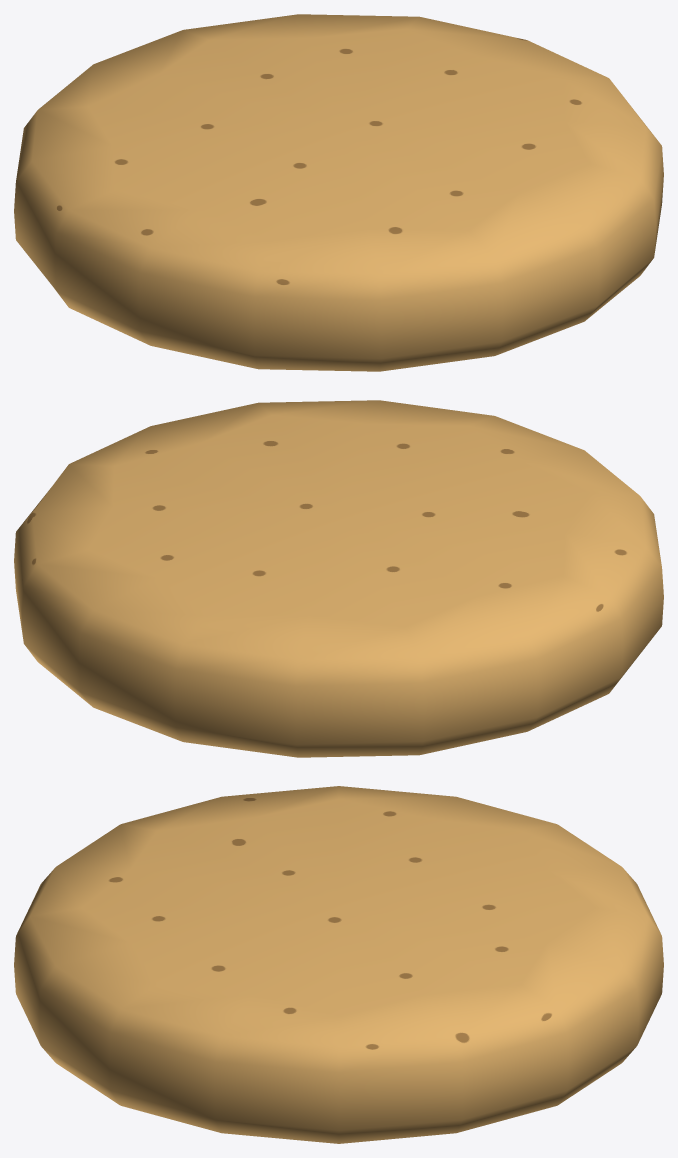
Rendered from hallulla.fbx.
3 views of the same model, one above another, from view 1: azimuth 30°, elevation 25°; view 2: azimuth 150°, elevation 25°; view 3: azimuth 270°, elevation 25° (orthographic).
Visible parts, largest first — view 1: HALLULLA; view 2: HALLULLA; view 3: HALLULLA.
Boxes of the visible parts, bbox=[...] form: HALLULLA: bbox=[14, 14, 663, 371]; HALLULLA: bbox=[14, 400, 663, 757]; HALLULLA: bbox=[14, 786, 663, 1143].
Bounding box in the file's own units: 233 × 49.54 × 233.
Materials: 1 (1 with a texture image).
